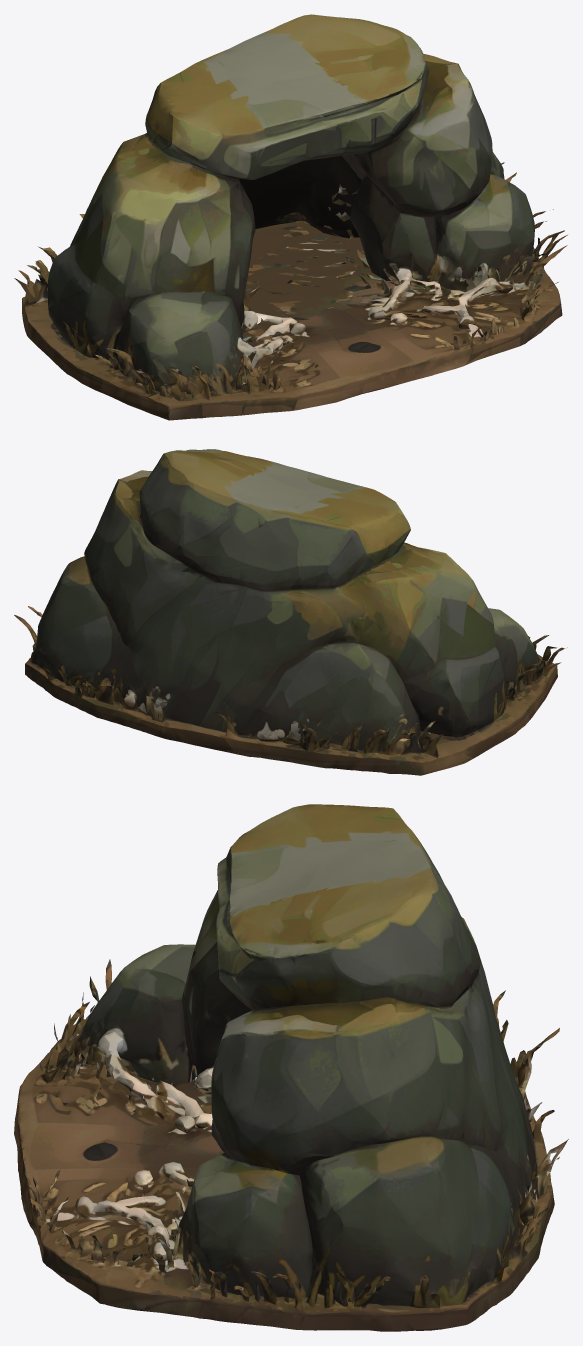
Rendered from den_wolf.glb.
3 views of the same model, one above another, from view 1: azimuth 30°, elevation 25°; view 2: azimuth 150°, elevation 25°; view 3: azimuth 270°, elevation 25° (orthographic). The views are drawn at different scales.
Visible parts, largest first — view 1: den_wolf; view 2: den_wolf; view 3: den_wolf.
Part boxes in pixels (bbox=[...]): den_wolf: bbox=[14, 14, 567, 420]; den_wolf: bbox=[14, 449, 567, 775]; den_wolf: bbox=[14, 804, 568, 1331].
Size of the model in its own units: 4 by 1.92 by 2.9.
Materials: 1 (1 with a texture image).
